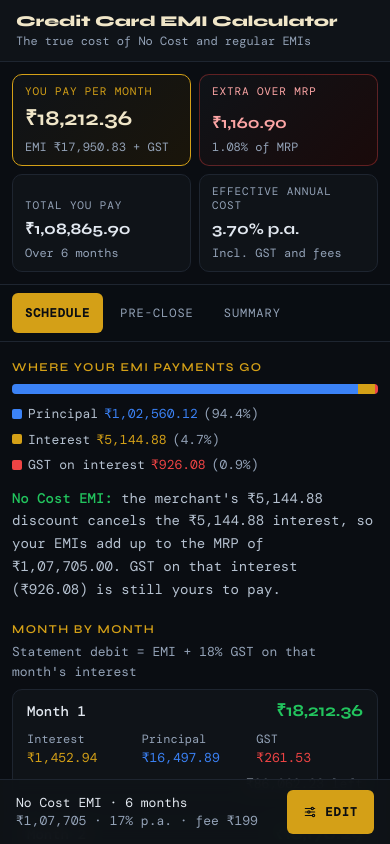
Test case: responsive shell & drawer › closes the drawer when the viewport crosses the lg breakpoint
Click the button with aria-label "Edit inputs" at (195, 812), box [0,780,389,843]
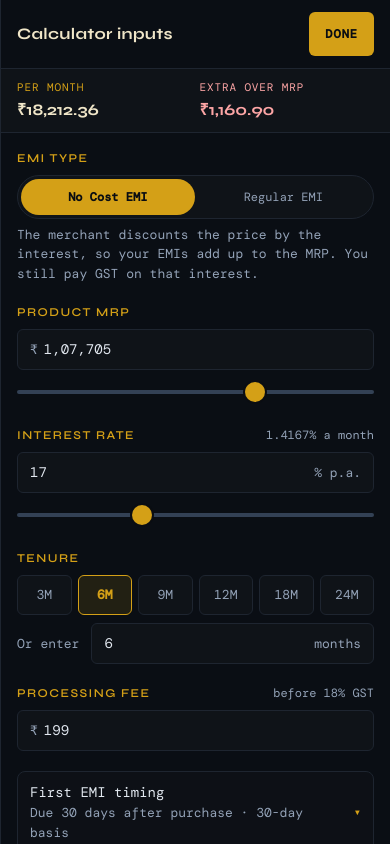
expect the dialog is shown: met
